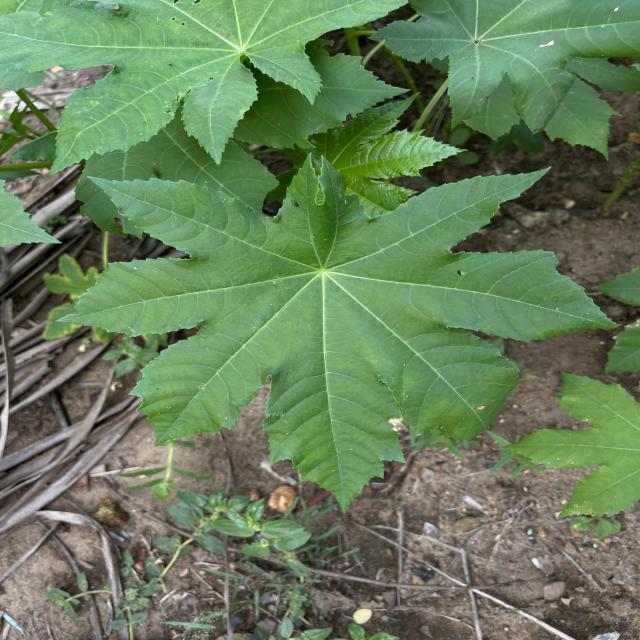Ricinus communis linn: (47, 144, 628, 519)
